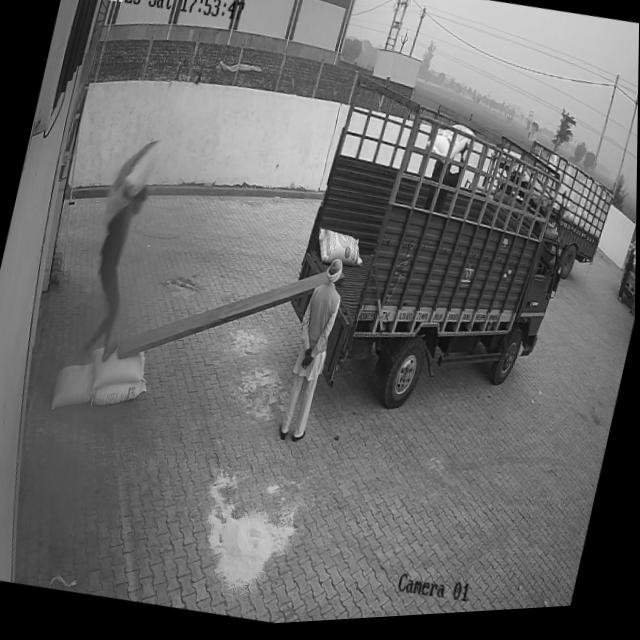sack: (102, 133, 161, 234), (86, 342, 149, 395), (51, 358, 99, 417), (312, 228, 369, 276), (93, 372, 149, 414)
